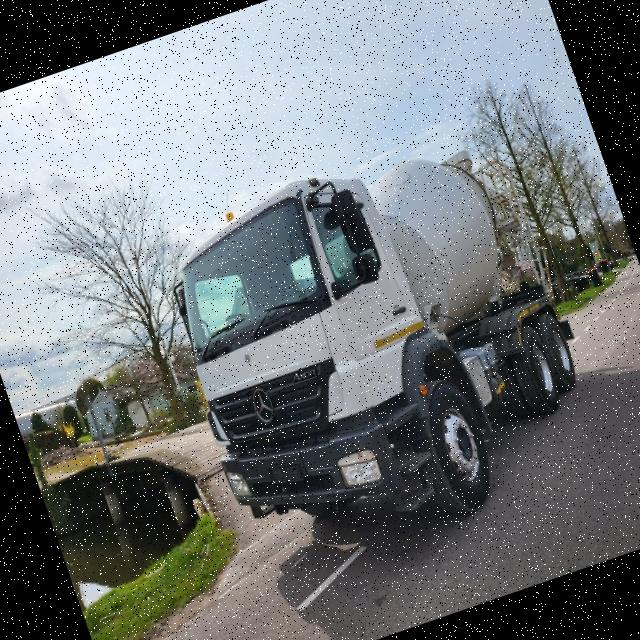Mixer Truck: (141, 110, 617, 584)
